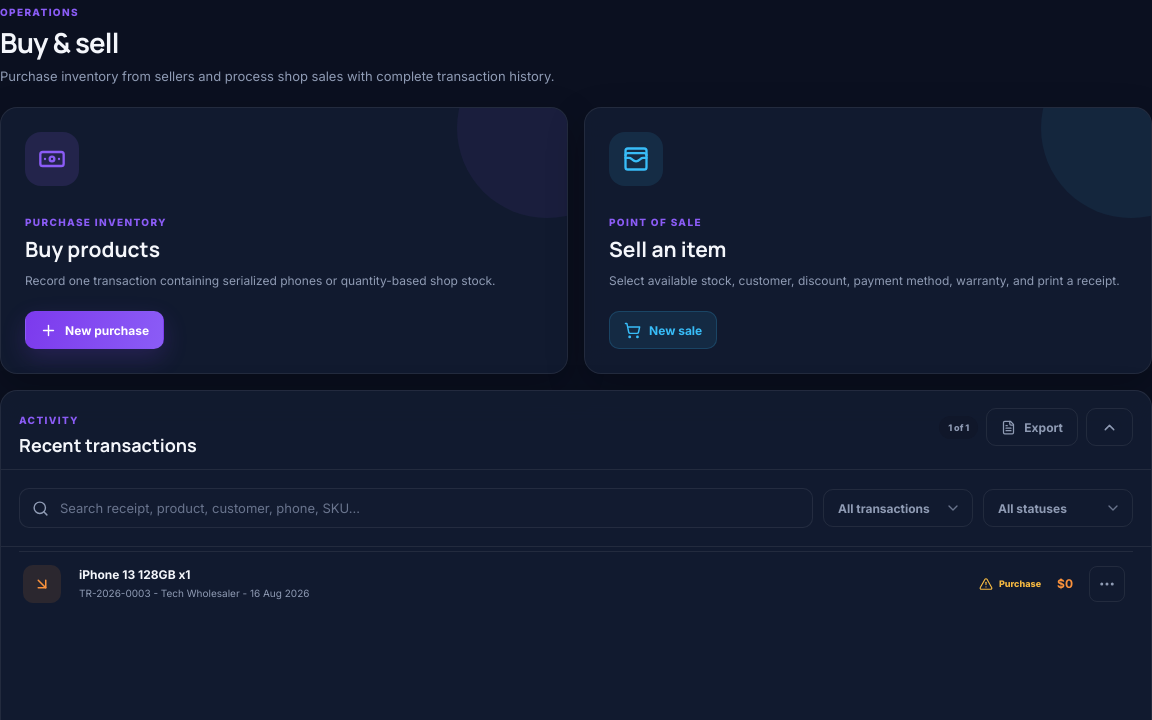
Test: TradePage feature integration › does not display negative zero for transactions with zero total
Expected: the text "TR-2026-0003 - Tech Wholesaler - 16 Aug 2026" is shown, left=79, top=587, right=309, bottom=599
Expected: the text "$0" is shown, left=1057, top=576, right=1073, bottom=592
Click the button with aria-label "View TR-2026-0003" at (42, 584), box left=19, top=552, right=1133, bottom=616
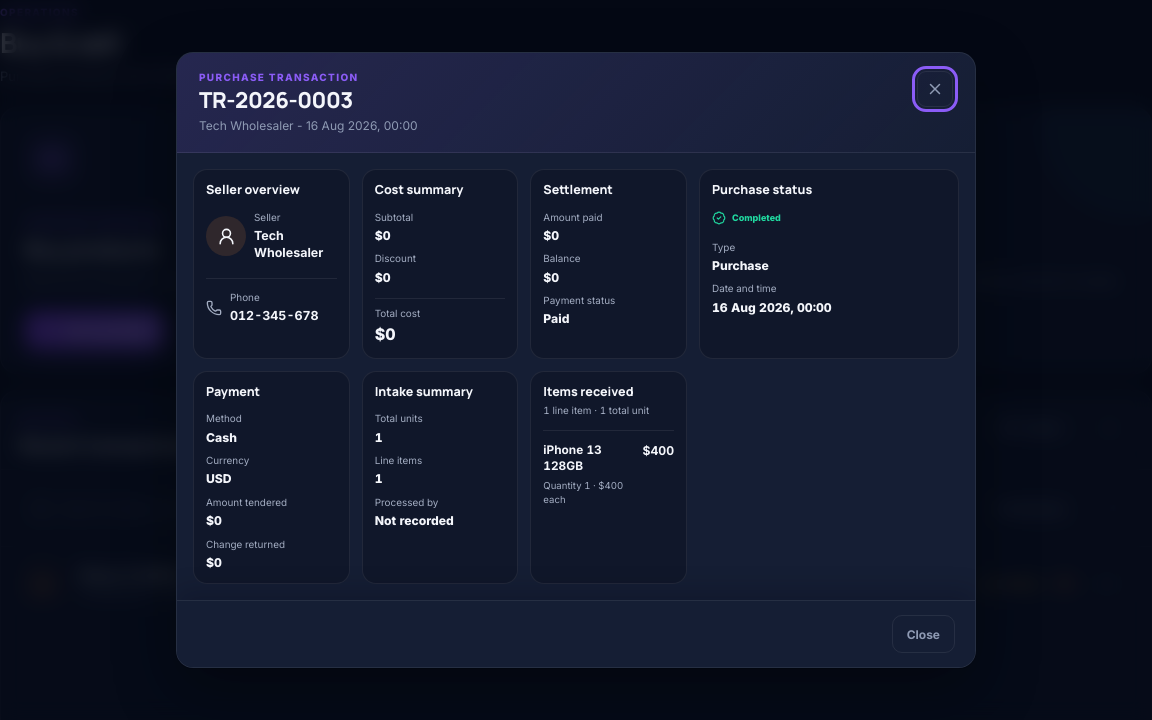
Now the dialog is shown, box left=176, top=52, right=976, bottom=668
